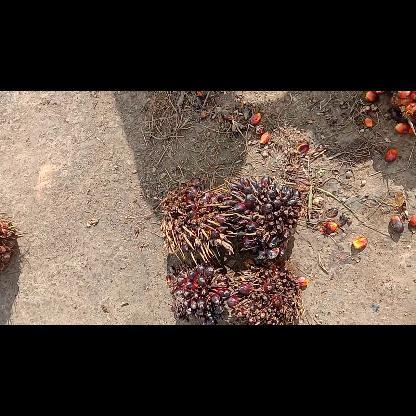TBS abnormal: (224, 177, 300, 263), (161, 186, 233, 264), (227, 260, 301, 324), (166, 258, 230, 324)
